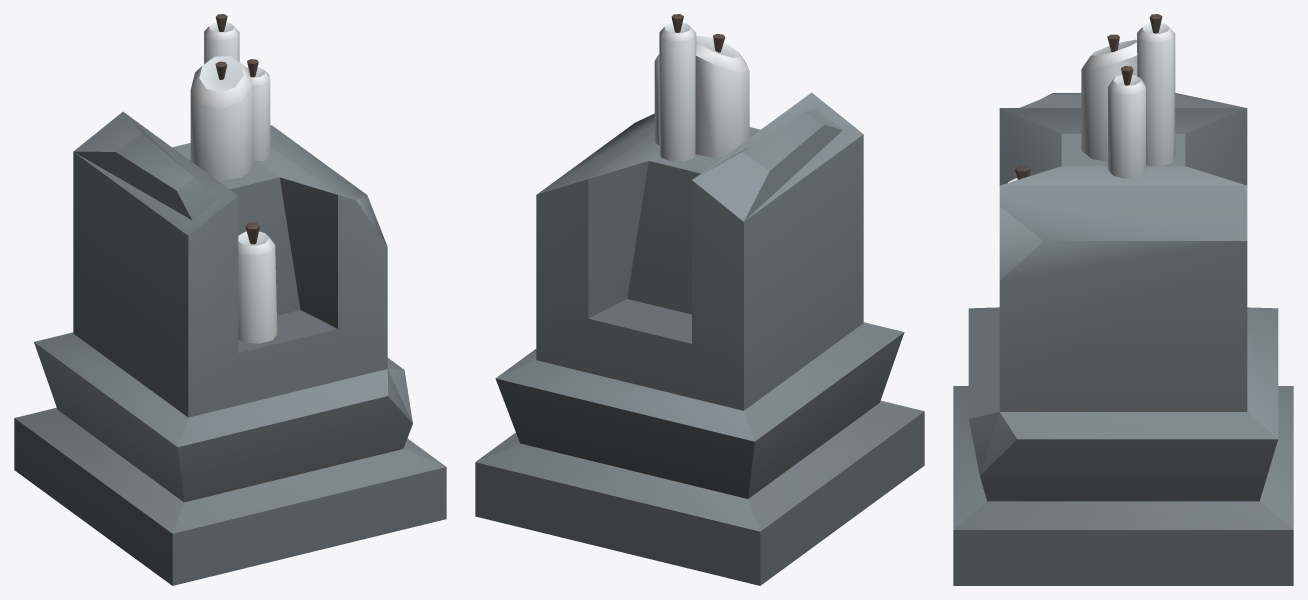
The model's file is d_kaykit_oratoire_bougies.glb.
The picture shows the model from 3 angles, left to right: view 1: azimuth 30°, elevation 25°; view 2: azimuth 150°, elevation 25°; view 3: azimuth 270°, elevation 25°; orthographic projection. The views are drawn at different scales.
Parts seen in each view (by area): view 1: d_kaykit_oratoire_bougies; view 2: d_kaykit_oratoire_bougies; view 3: d_kaykit_oratoire_bougies.
Boxes of the visible parts, x1,y1,x2,y2 form: d_kaykit_oratoire_bougies: (14, 14, 446, 585); d_kaykit_oratoire_bougies: (475, 14, 924, 585); d_kaykit_oratoire_bougies: (953, 14, 1293, 585).
Bounding box in the file's own units: 1.1 × 1.79 × 1.1.
Materials: 1 (1 with a texture image).
